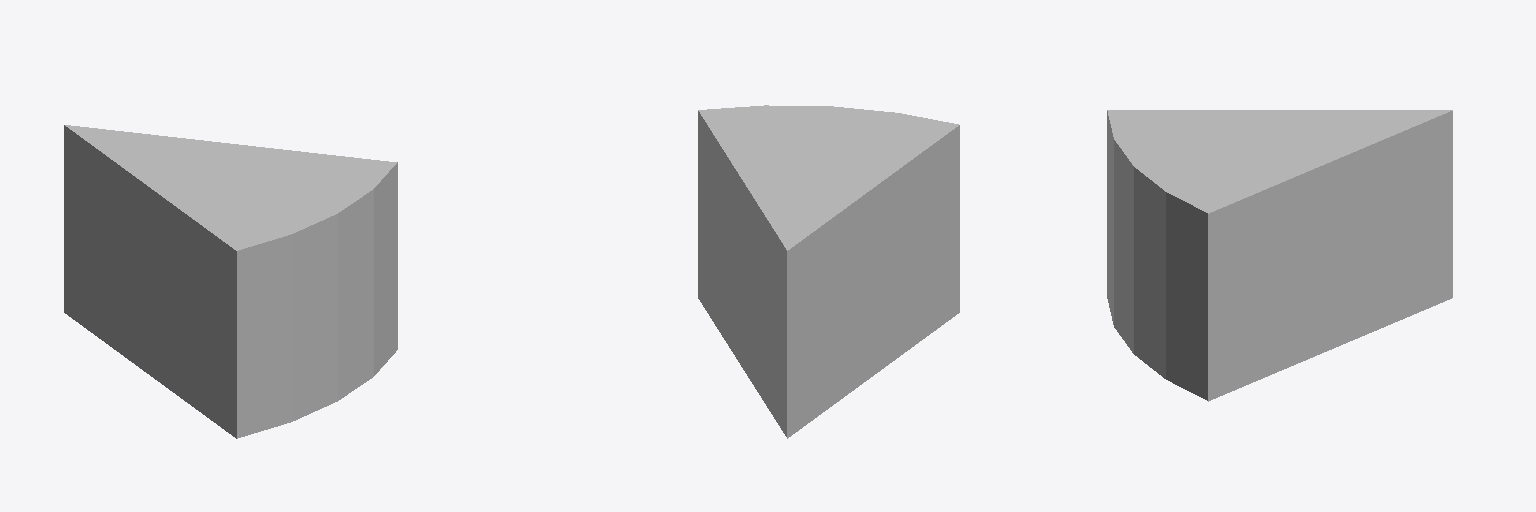
The model's file is slice1.obj.
3 renders of one model, left to right at view 1: azimuth 30°, elevation 25°; view 2: azimuth 150°, elevation 25°; view 3: azimuth 270°, elevation 25°, orthographic.
Parts seen in each view (by area): view 1: Cube.004_Cube.021; view 2: Cube.004_Cube.021; view 3: Cube.004_Cube.021.
Part boxes in pixels (x1,y1,x2,y2): Cube.004_Cube.021: (64, 125, 397, 438); Cube.004_Cube.021: (698, 105, 959, 438); Cube.004_Cube.021: (1107, 110, 1452, 401).
Size of the model in its own units: 1.41 by 1.2 by 2.